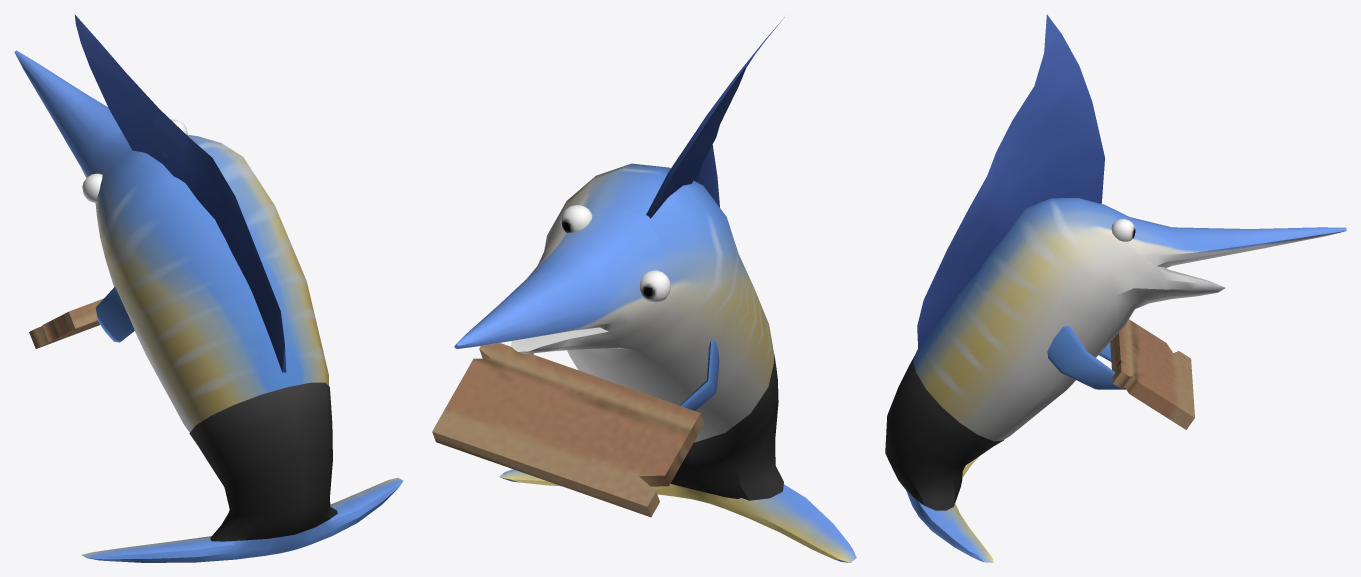
Rendered from kajiki_walk_c_01.fbx.
3 renders of one model, left to right at view 1: azimuth 30°, elevation 25°; view 2: azimuth 150°, elevation 25°; view 3: azimuth 270°, elevation 25°, orthographic. The views are drawn at different scales.
Parts seen in each view (by area): view 1: W_c_01; view 2: W_c_01; view 3: W_c_01.
Boxes of the visible parts, x1,y1,x2,y2 form: W_c_01: (14,14,403,562); W_c_01: (432,17,856,562); W_c_01: (885,14,1346,562).
Size of the model in its own units: 1.46 by 2.27 by 2.19.
1 material, 1 textured.
